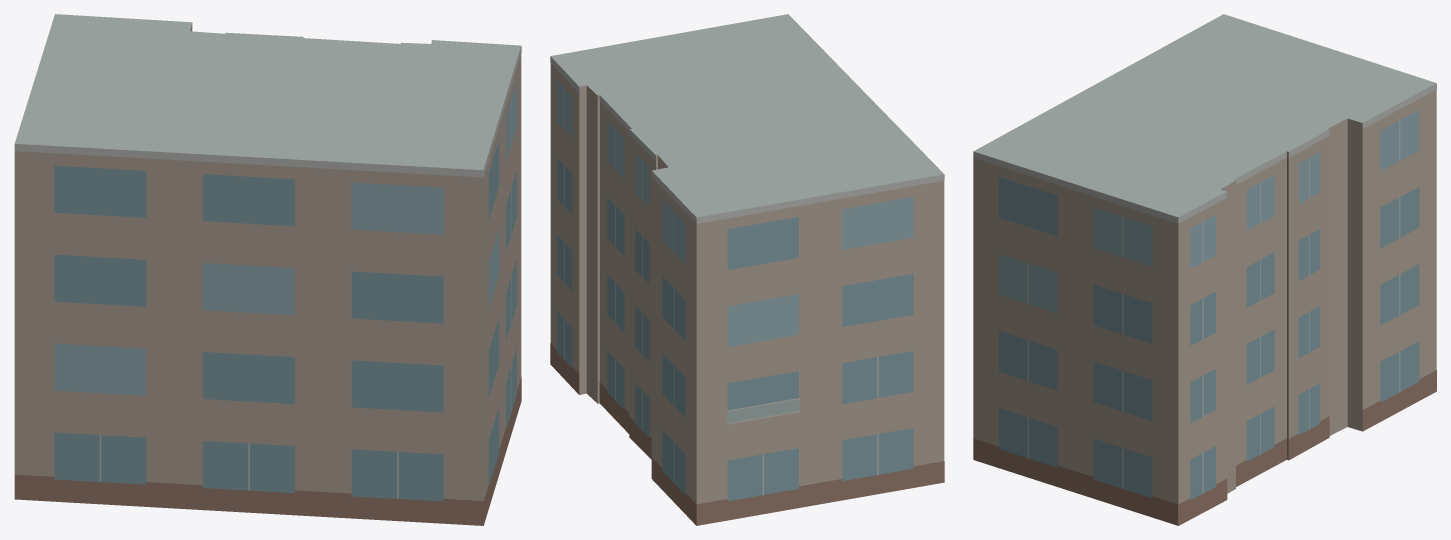
The model's file is survey-upis-32529898.glb.
3 views of the same model, side by side, from view 1: azimuth 30°, elevation 25°; view 2: azimuth 150°, elevation 25°; view 3: azimuth 270°, elevation 25° (orthographic). The views are drawn at different scales.
Parts seen in each view (by area): view 1: survey-upis-32529898.tmp; view 2: survey-upis-32529898.tmp; view 3: survey-upis-32529898.tmp.
Boxes of the visible parts, bbox=[...] form: survey-upis-32529898.tmp: bbox=[14, 14, 521, 525]; survey-upis-32529898.tmp: bbox=[550, 14, 944, 525]; survey-upis-32529898.tmp: bbox=[973, 14, 1436, 525].
Size of the model in its own units: 16.84 by 11.9 by 16.21.
